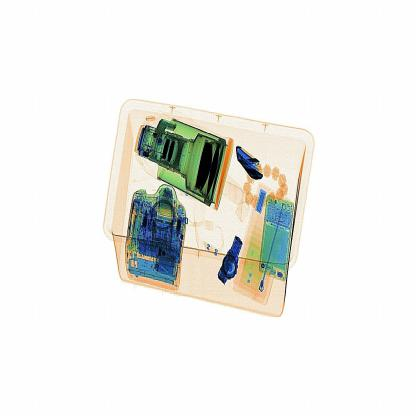pliers: (231, 140, 276, 193)
